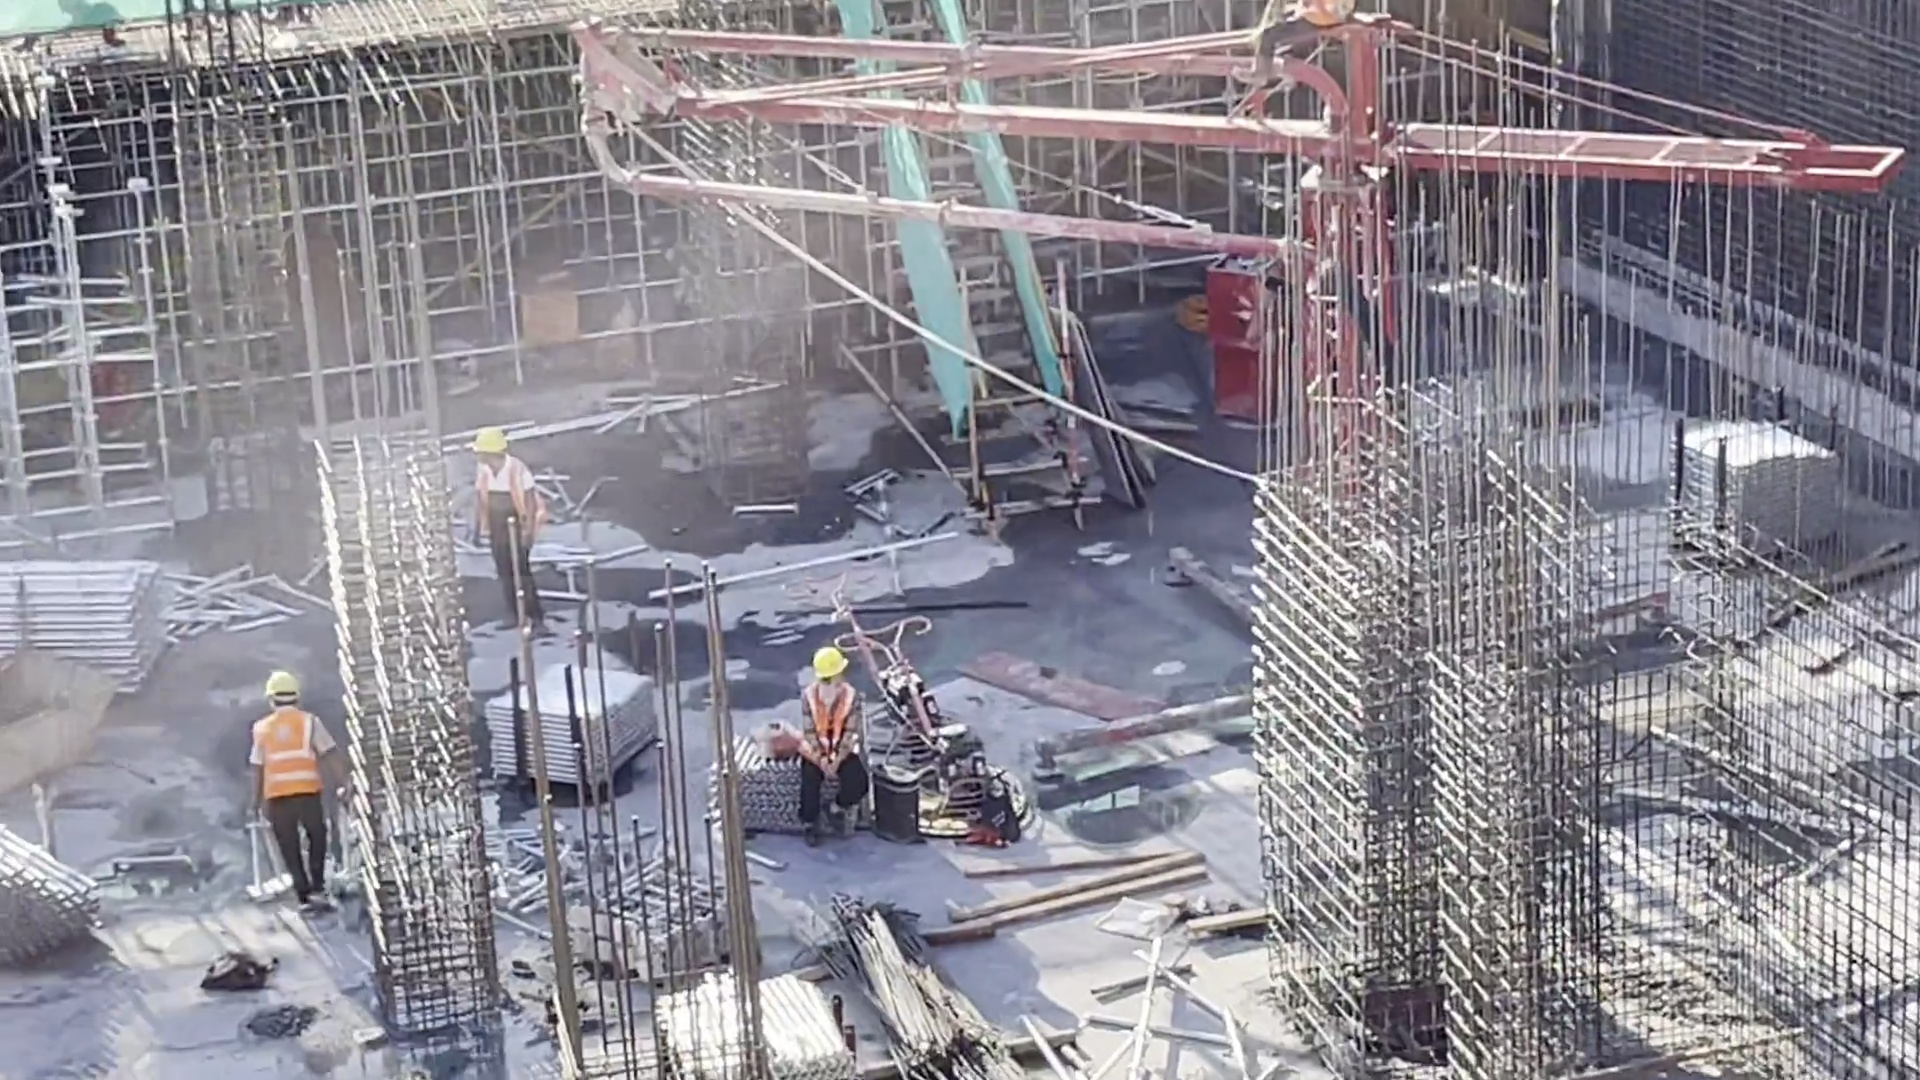helmet: (466, 436, 543, 491), (231, 676, 296, 702), (813, 642, 851, 671)
hopper: (1, 644, 114, 801)
person: (451, 424, 566, 628), (259, 643, 341, 891), (786, 648, 864, 838), (1244, 1, 1349, 108)
rebar: (811, 871, 996, 1080)
scaffold: (1, 535, 211, 697), (1688, 422, 1861, 582), (654, 976, 889, 1077), (519, 656, 704, 766), (1, 817, 99, 956), (726, 742, 831, 827)
vest: (476, 459, 534, 574), (269, 701, 336, 792), (804, 671, 864, 769), (1283, 1, 1331, 17)
